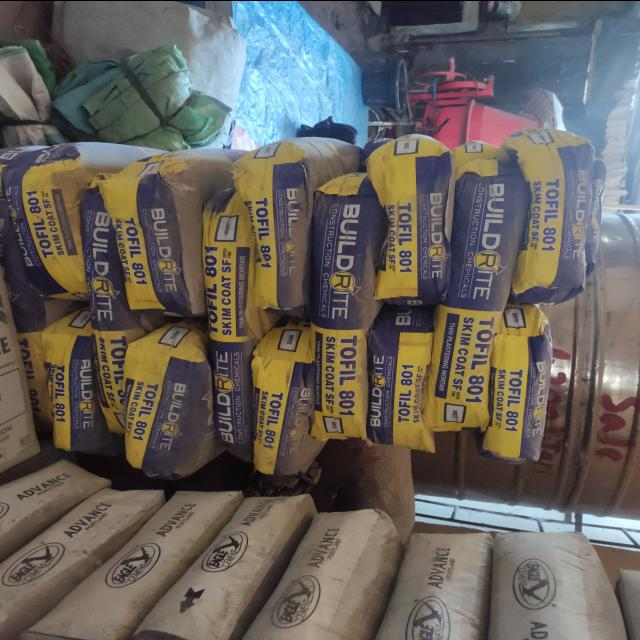Skim coat: (427, 144, 508, 436), (312, 183, 375, 439), (519, 126, 598, 305), (128, 319, 205, 485), (122, 152, 199, 318), (214, 201, 252, 448), (258, 140, 314, 302), (12, 158, 84, 284), (492, 304, 550, 460), (385, 147, 443, 303), (93, 189, 127, 434), (378, 310, 436, 448), (267, 322, 317, 471), (52, 325, 97, 451)
